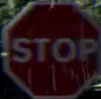Stop: (4, 1, 100, 98)
